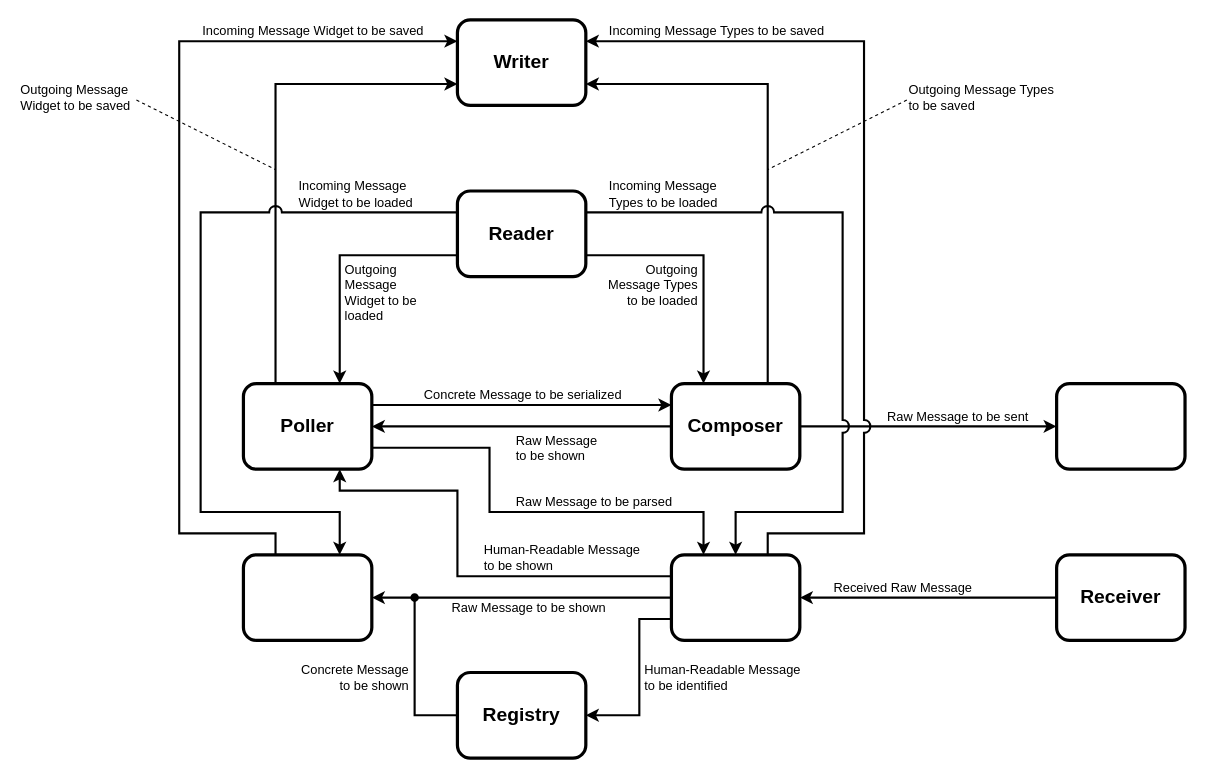
Image size: 1205x778. Some labels were removed from this diagram. Each missing label, with the box of its shape:
Parser: (669, 553, 801, 641)
Sender: (1054, 381, 1186, 470)
Shower: (241, 553, 373, 641)
